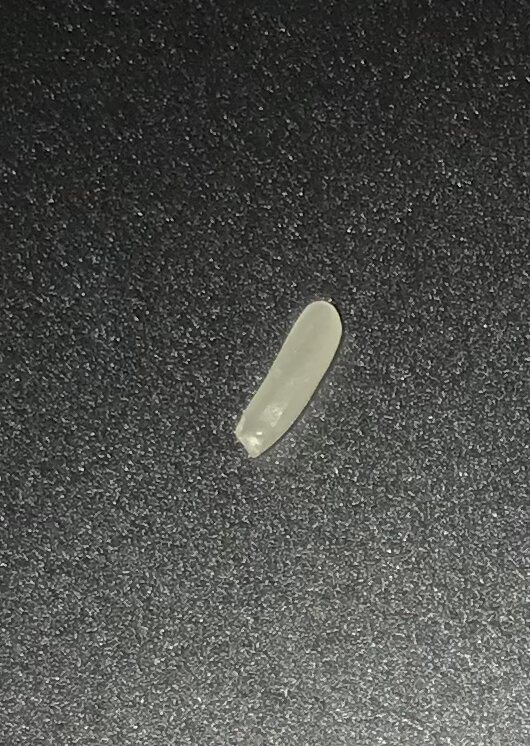Gao Long Lai: (229, 291, 352, 464)
